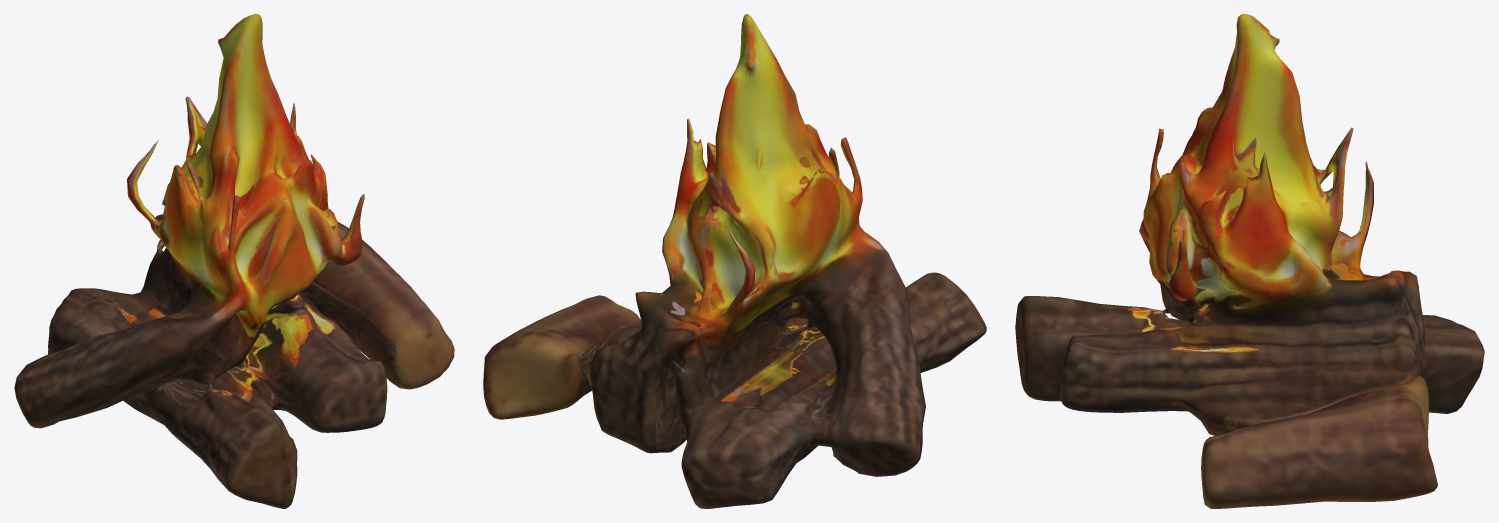
The model's file is Lena.obj.
The picture shows the model from 3 angles, left to right: view 1: azimuth 30°, elevation 25°; view 2: azimuth 150°, elevation 25°; view 3: azimuth 270°, elevation 25°; orthographic projection. The views are drawn at different scales.
Visible parts, largest first — view 1: Lena; view 2: Lena; view 3: Lena.
Part boxes in pixels (x1,y1,x2,y2): Lena: (14,14,454,508); Lena: (483,14,986,508); Lena: (1015,14,1484,508).
Size of the model in its own units: 1.21 by 1.22 by 1.21.
1 material, 1 textured.
